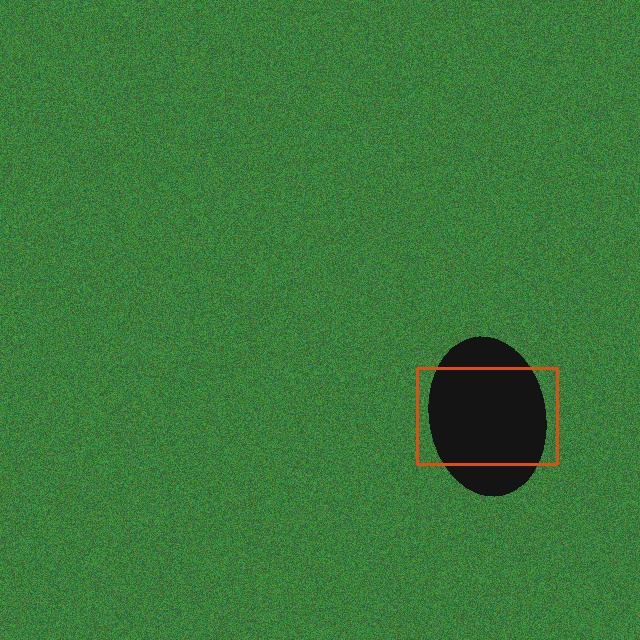blister beetle: (407, 358, 567, 474)
